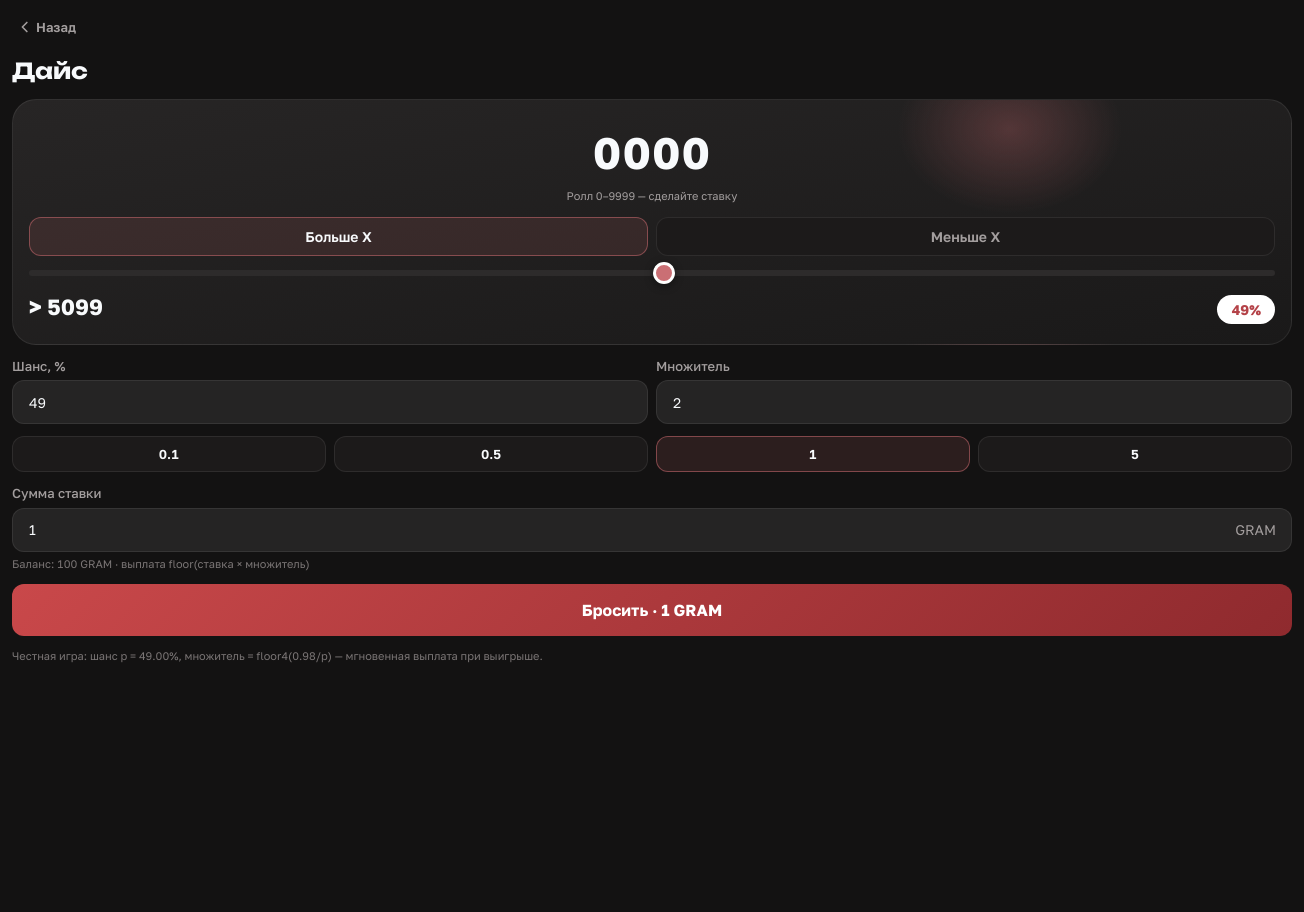
Test: DiceScreen (4.7: поля пересчитывают друг друга) › смена направления зажимает цель в границы и пересчитывает поля
Click the button "Меньше X".
click(966, 236)  # box [656,216,1275,256]
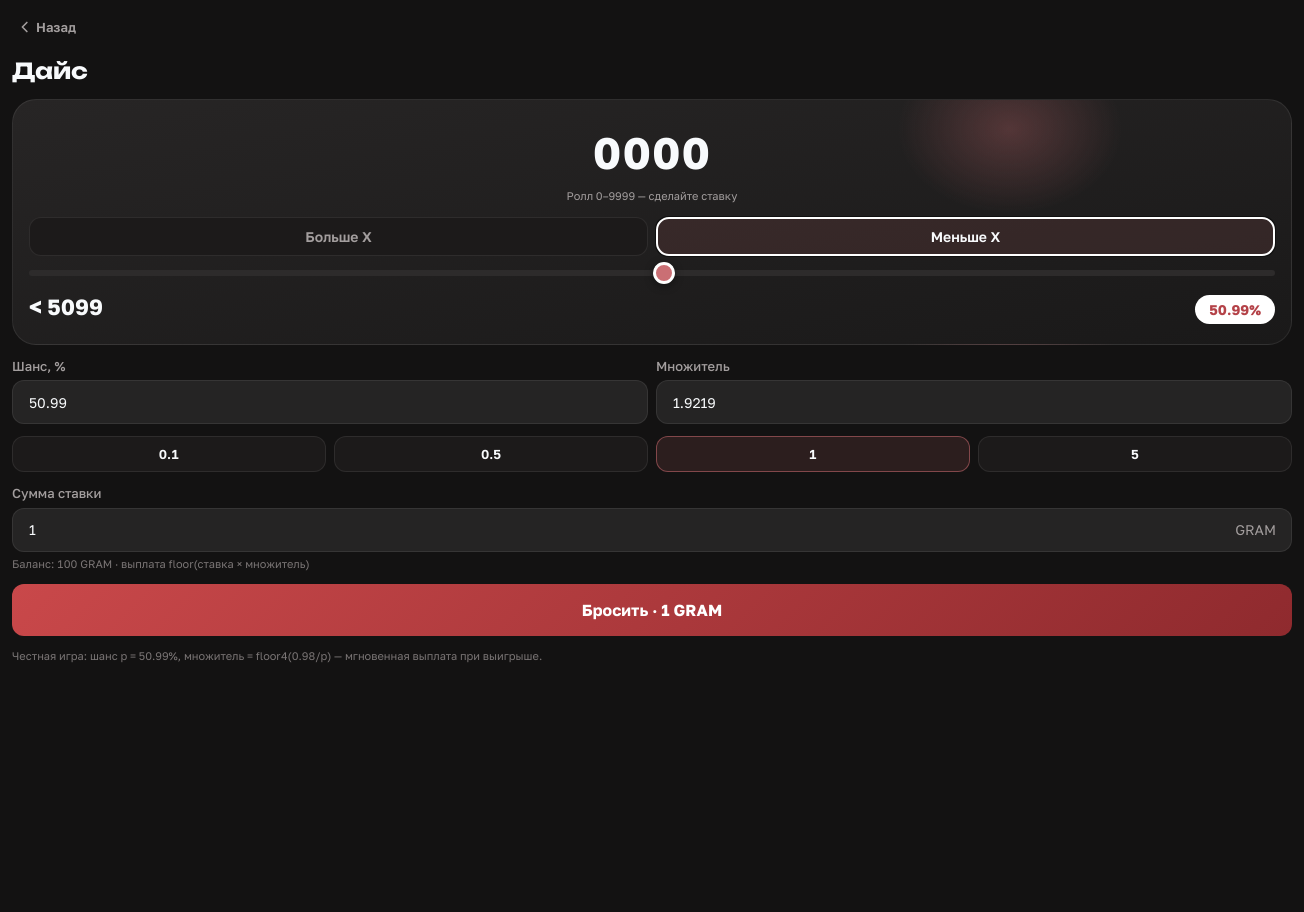
Expected: the text "< 5099" is shown, [29,290,103,322]
Expected: the text "50.99%" is shown, [1195,294,1275,324]
Expected: the field labelled "Множитель" holds "1.9219", [656,380,1292,424]
